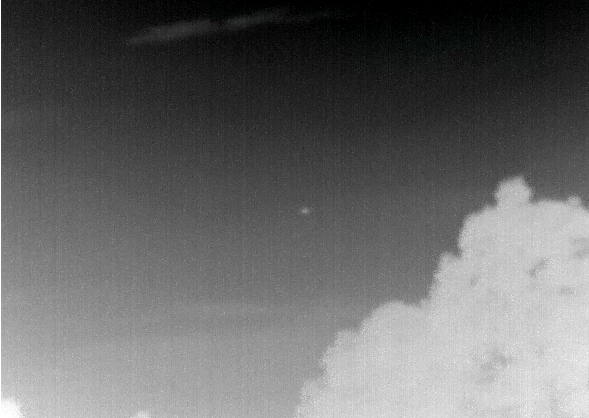dim target: (298, 205, 311, 215)
